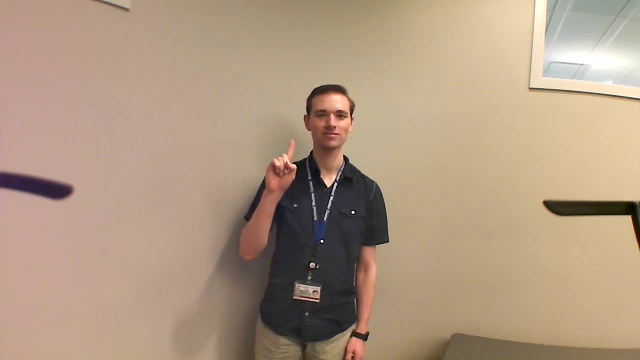up: (264, 136, 301, 191)
